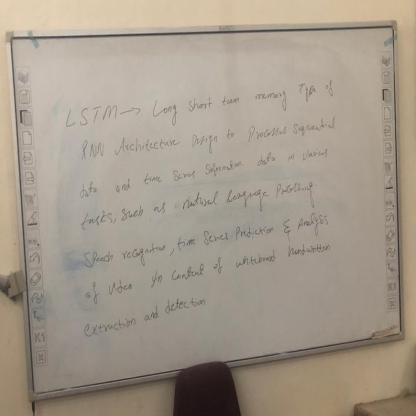Handwritten text: (80, 235, 343, 310), (56, 72, 341, 136), (74, 206, 334, 274), (73, 140, 337, 205), (74, 174, 323, 238), (73, 112, 346, 169), (72, 286, 217, 351)
Whiteboard: (7, 14, 409, 405)
